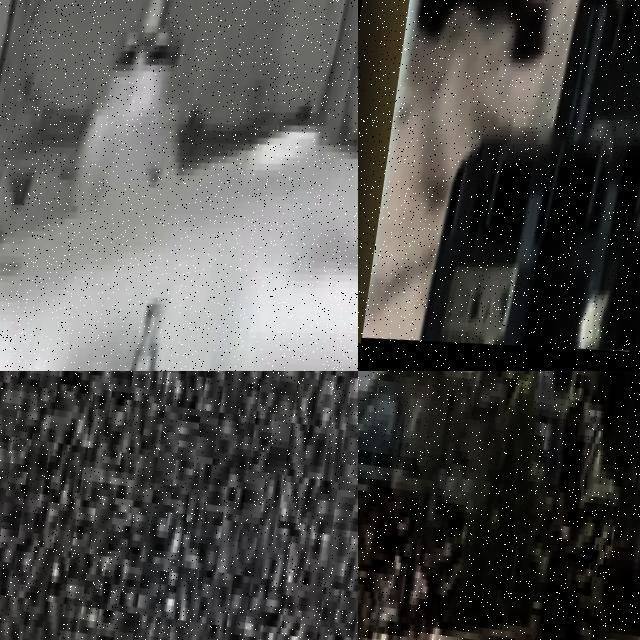drone: (0, 0, 358, 371), (361, 0, 640, 371)
